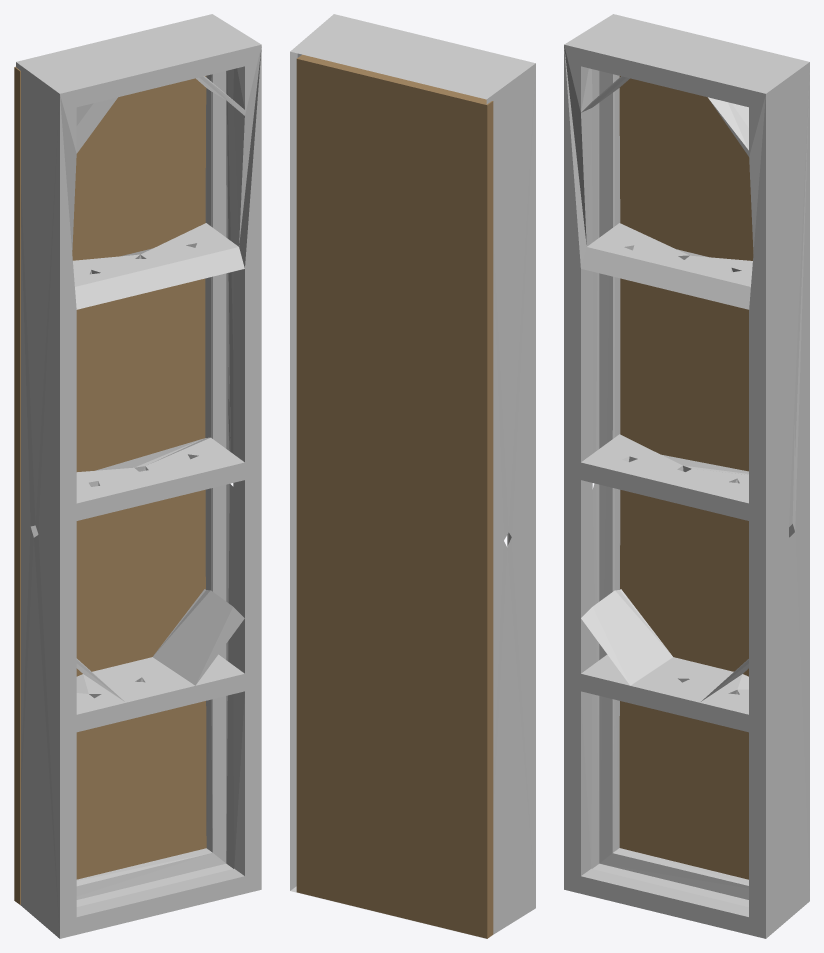
3 renders of one model, left to right at view 1: azimuth 30°, elevation 25°; view 2: azimuth 150°, elevation 25°; view 3: azimuth 330°, elevation 25°, orthographic.
Visible parts, largest first — view 1: 12304211; view 2: 12304211; view 3: 12304211.
Boxes of the visible parts, x1,y1,x2,y2 form: 12304211: (14,14,261,938); 12304211: (290,14,535,938); 12304211: (564,14,809,938).
Size of the model in its own units: 0.3 by 1.2 by 0.121.
